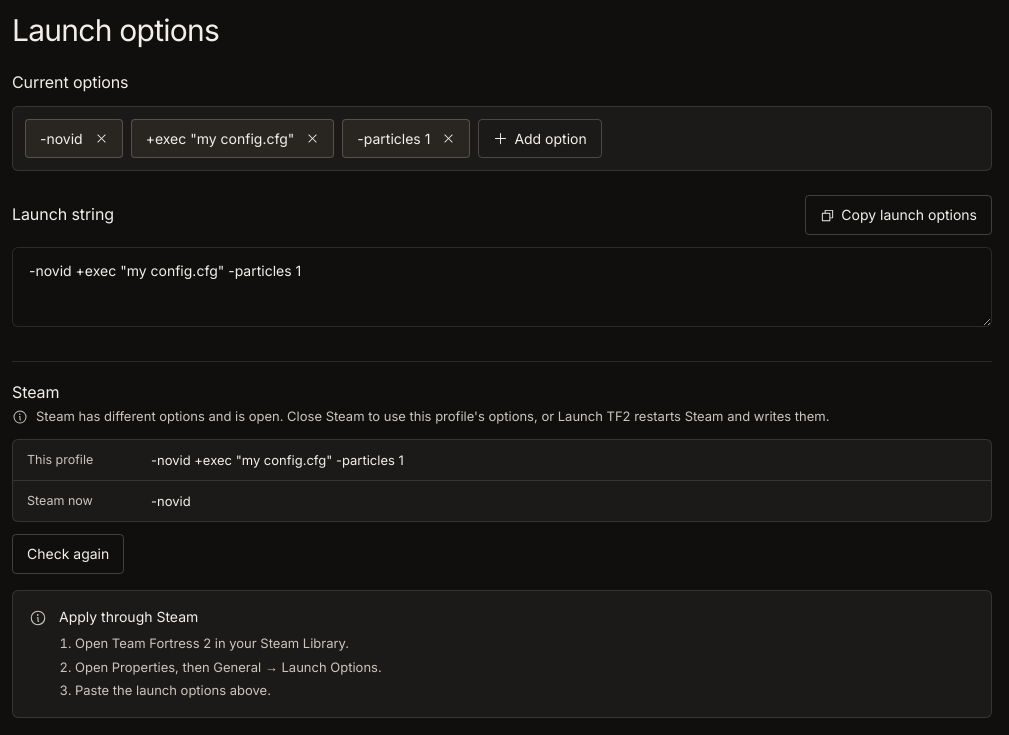
Launch workspace › never reports Steam as updated because the options were copied
Click the button with test id "launch-copy" at (899, 215), box [805,195,992,235]
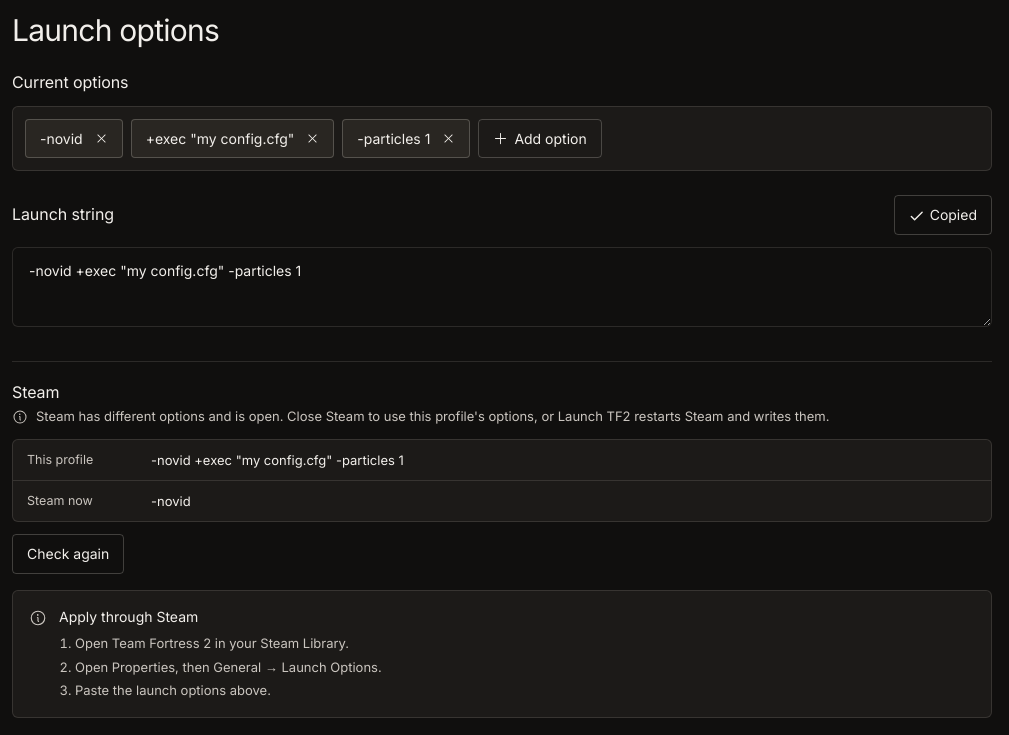
Expected: the element with test id "launch-steam-status" shows "different options", [36,408,830,424]
Expected: the button with test id "launch-copy" reads "Copied", [894,195,992,235]
